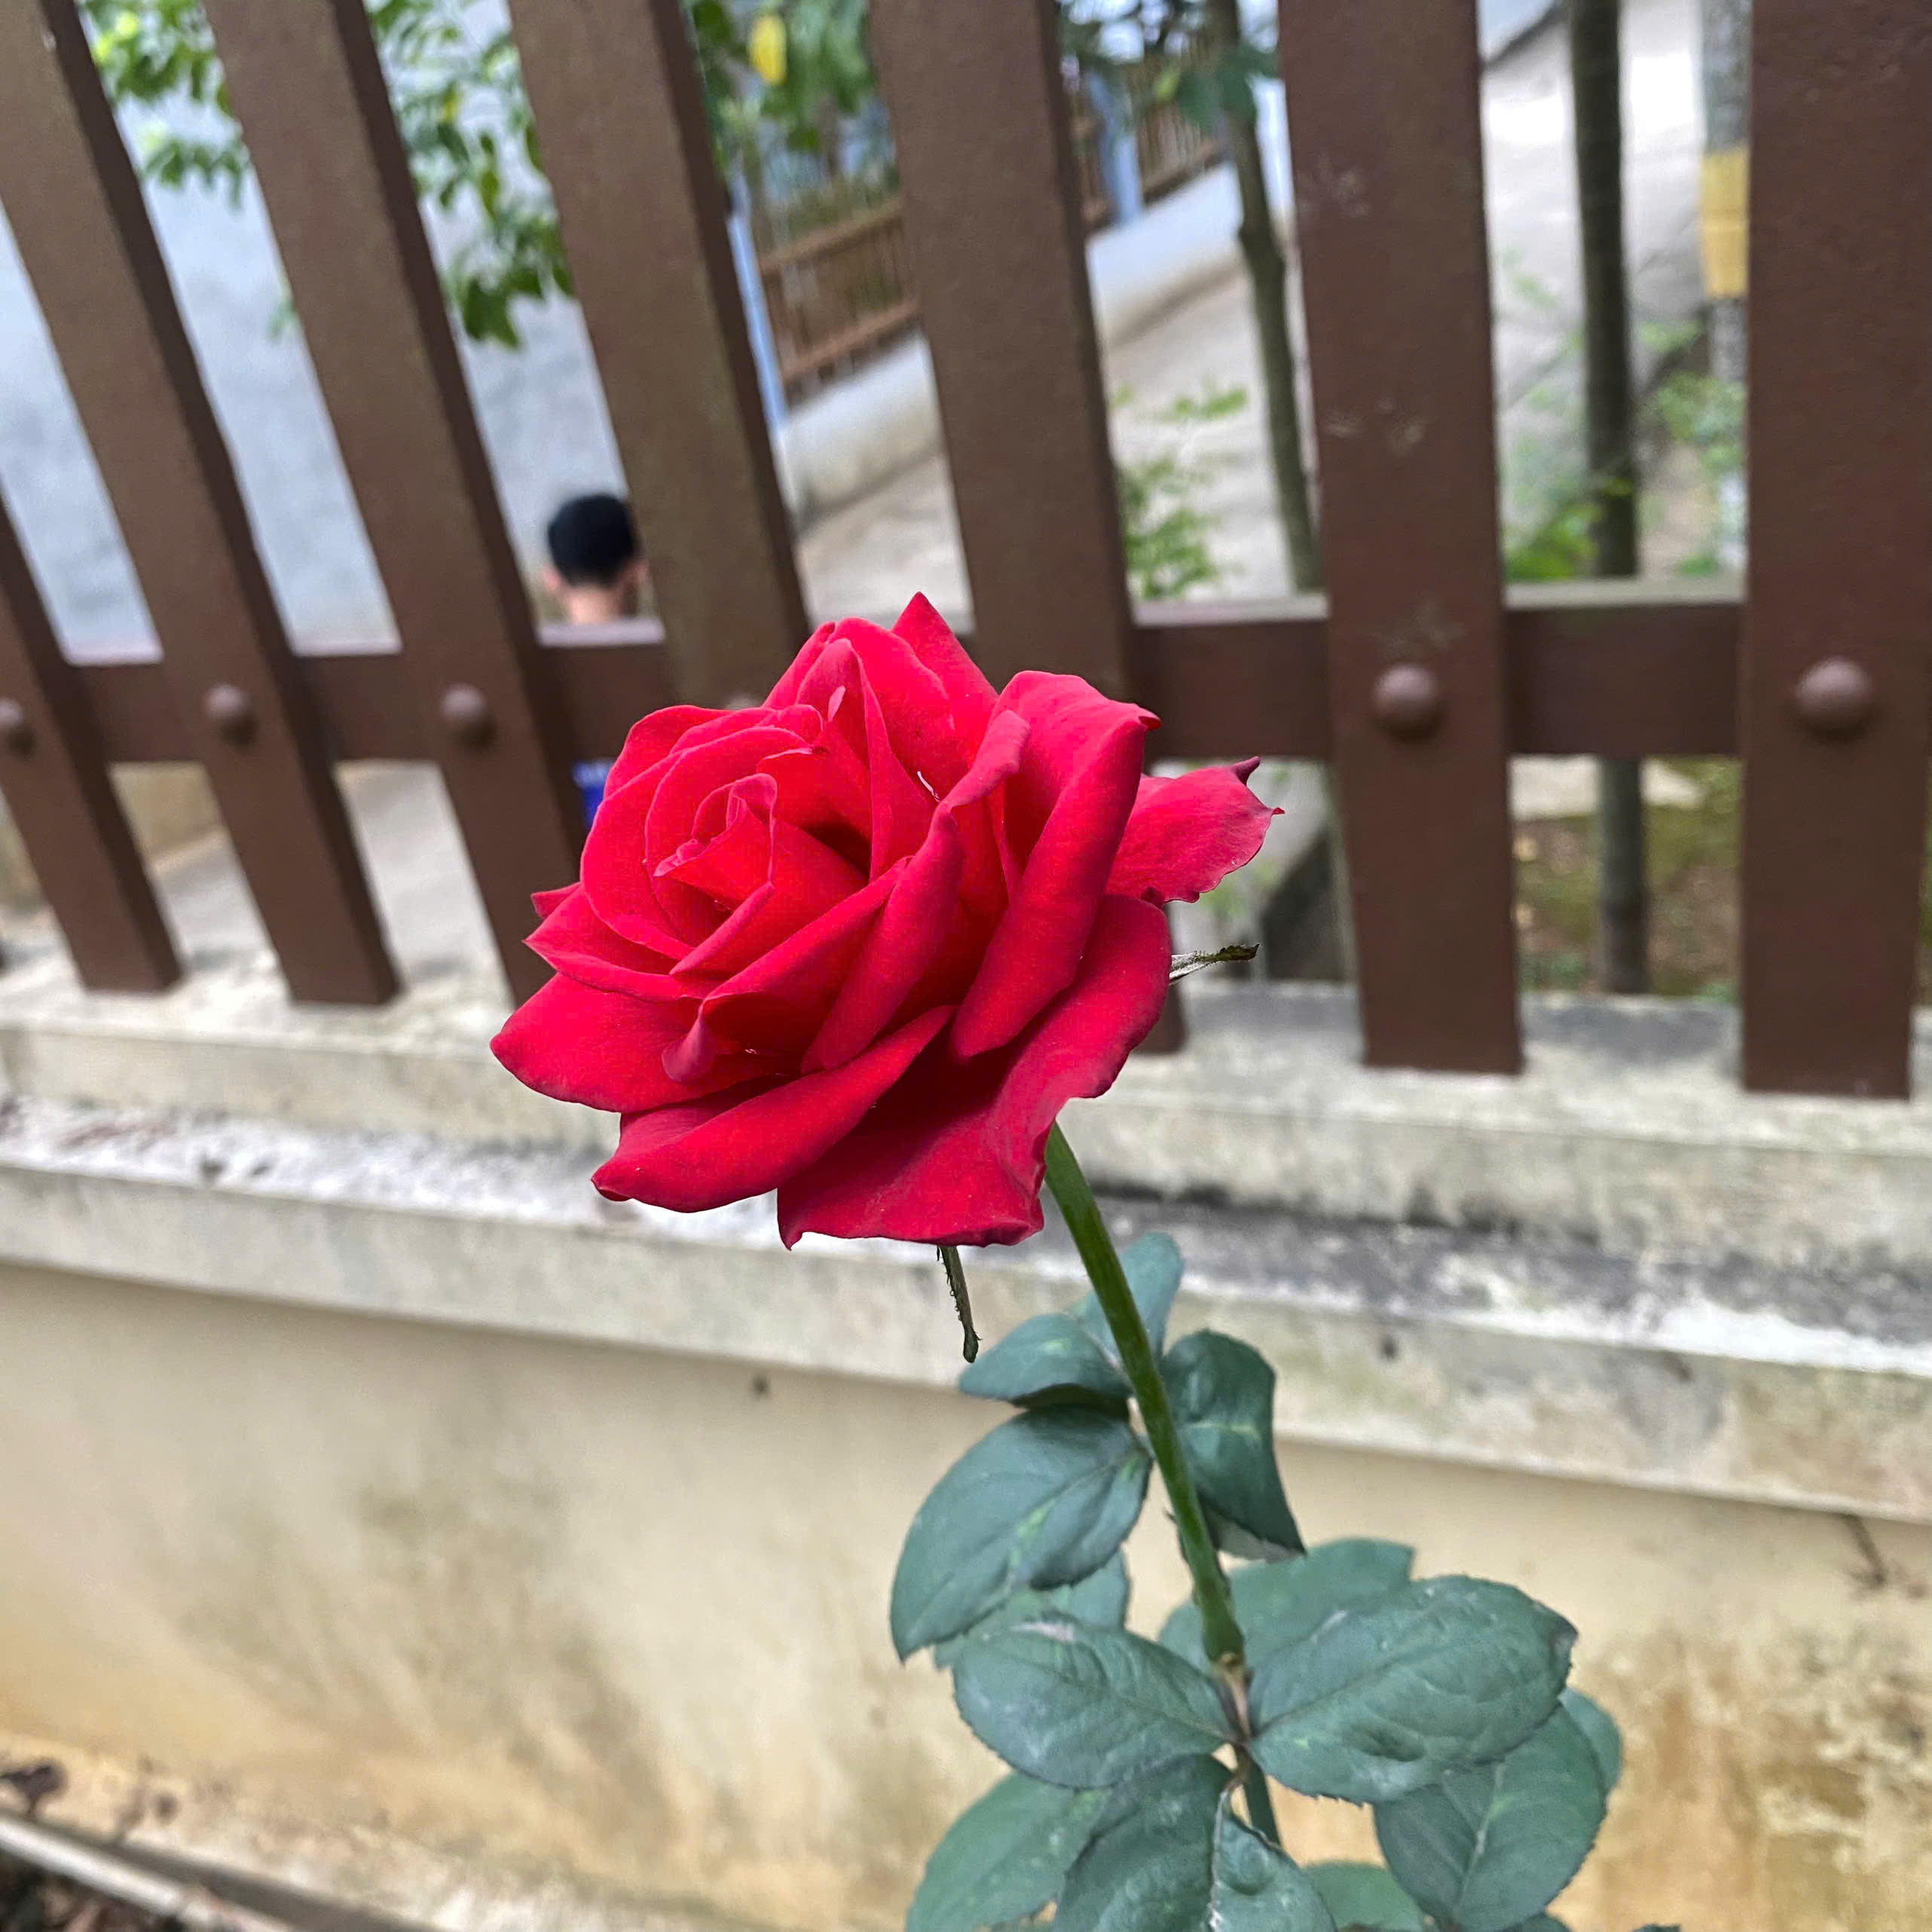hoa_hong_do: (464, 545, 1591, 1932)
